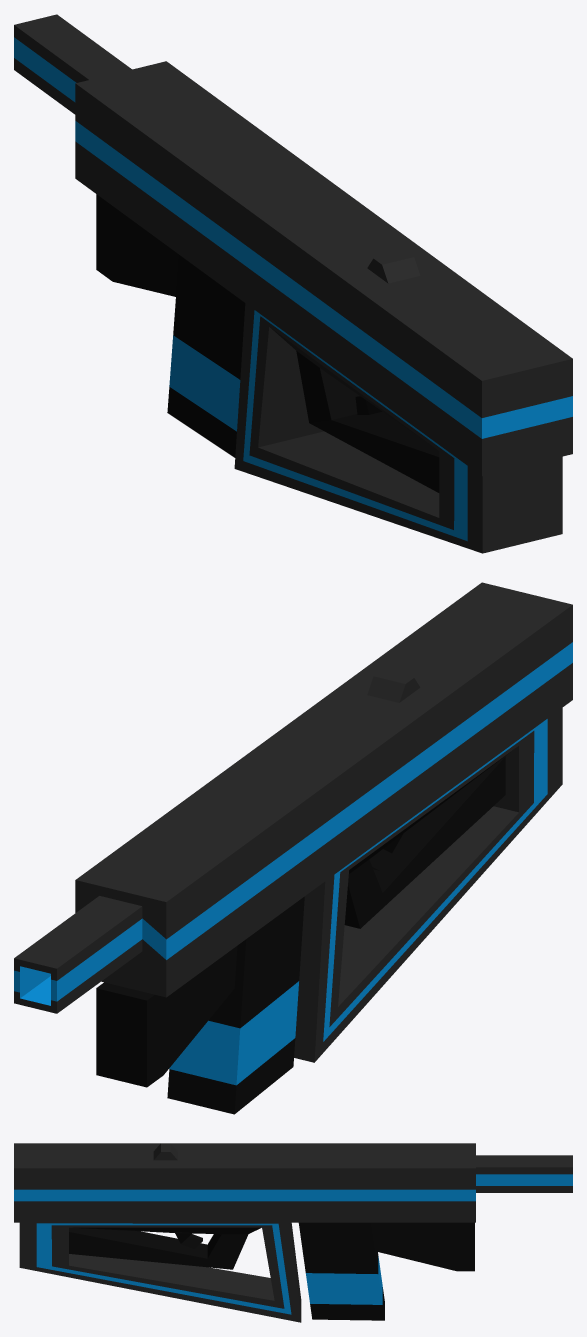
The model's file is AssaultRifle.fbx.
The picture shows the model from 3 angles, top to bottom: view 1: azimuth 30°, elevation 25°; view 2: azimuth 150°, elevation 25°; view 3: azimuth 270°, elevation 25°; orthographic projection. The views are drawn at different scales.
Visible parts, largest first — view 1: Cube.010; view 2: Cube.010; view 3: Cube.010.
Part boxes in pixels (x1,y1,x2,y2): Cube.010: [14, 14, 572, 553]; Cube.010: [14, 582, 572, 1114]; Cube.010: [14, 1143, 572, 1322].
Size of the model in its own units: 0.0937 by 0.284 by 0.8771.
